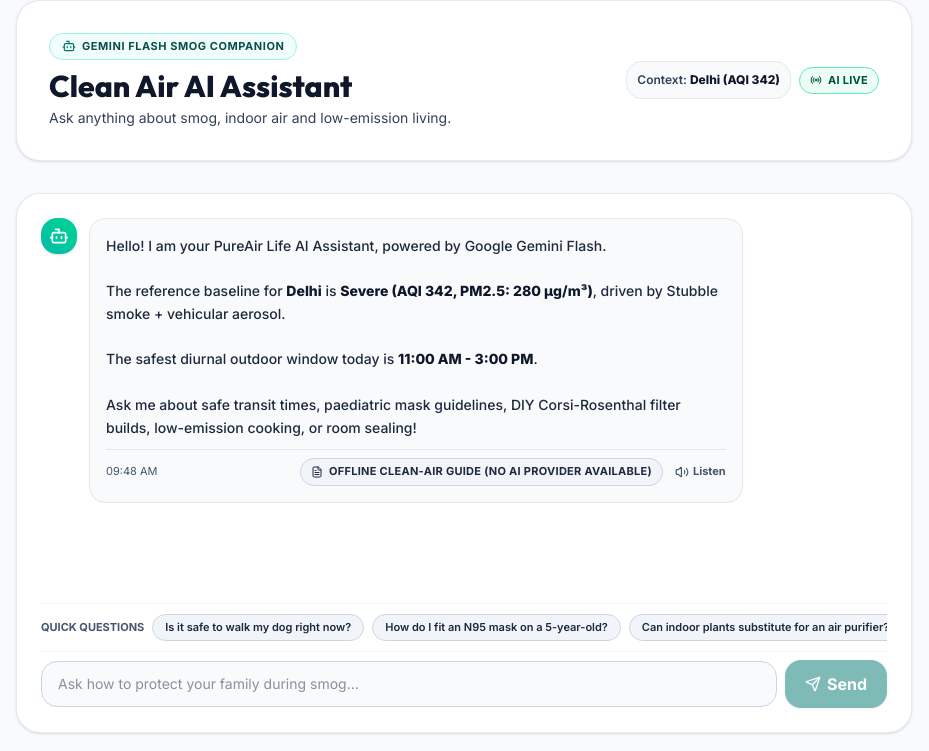
Test case: Assistant chat interaction › stops advertising a live model once the provider falls back
Expected: the text "AI live" is shown, [799,67,879,94]
Type "indoor air quality" into the field named "ask the clean air assistant". click: {"x": 409, "y": 684}
box: [41,660,777,706]
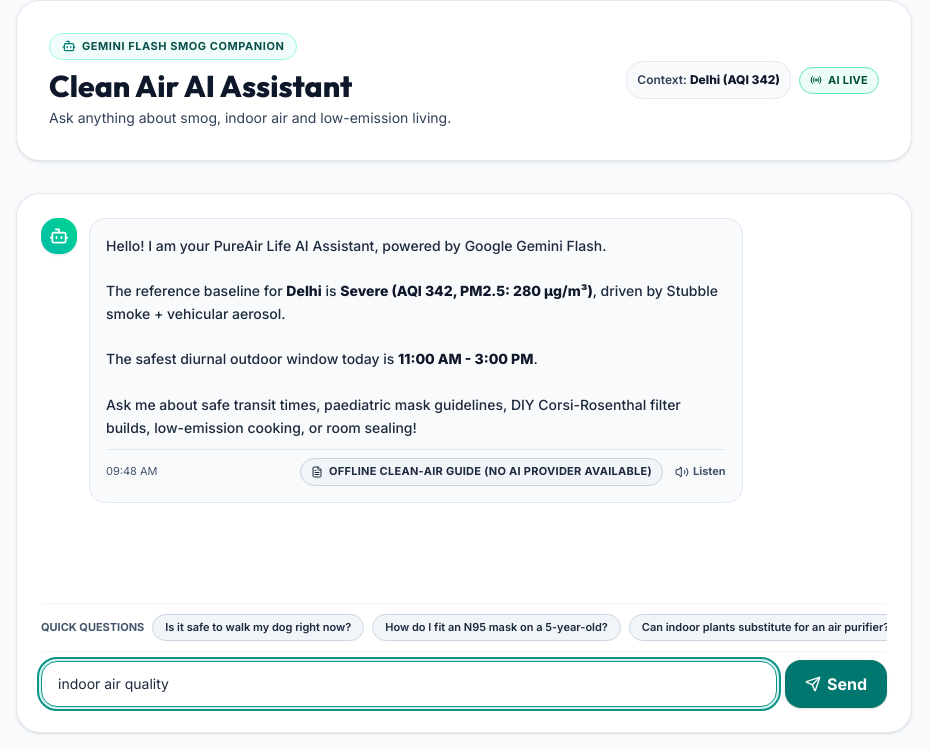
Click the button "Send". click: {"x": 836, "y": 684}
box: [785,660,887,708]
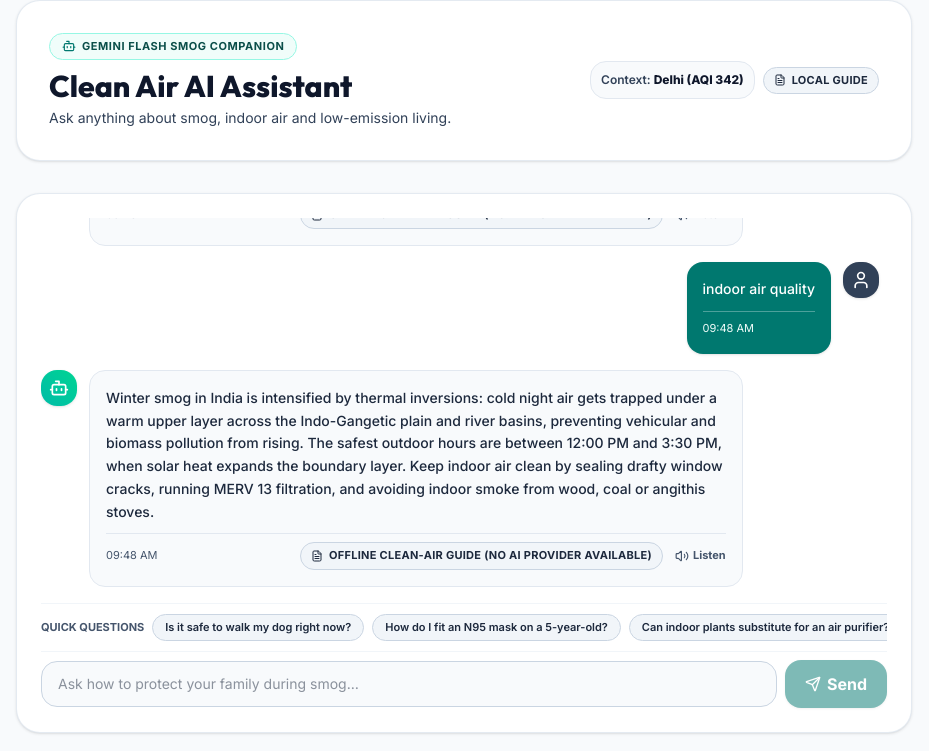
Now the text "AI live" is gone
Now the text "Local guide" is shown, box [763,67,879,94]
